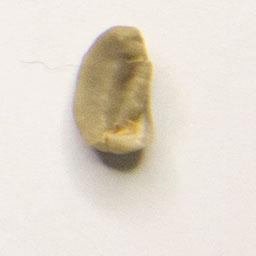defect: (68, 21, 159, 159)
